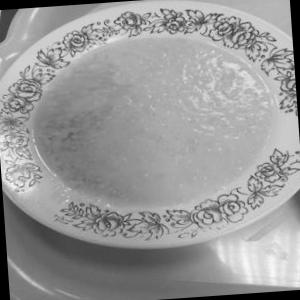porridge: (17, 17, 264, 228)
